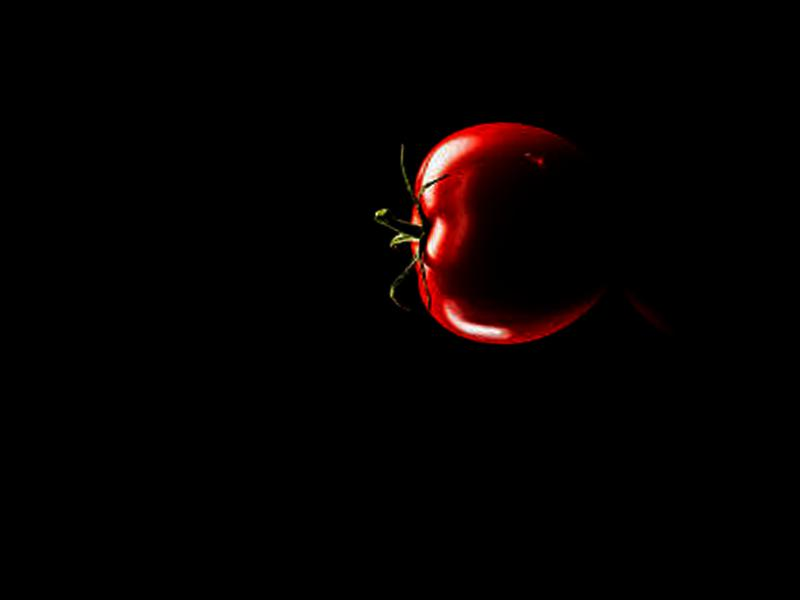Tomato: (399, 117, 611, 348)
